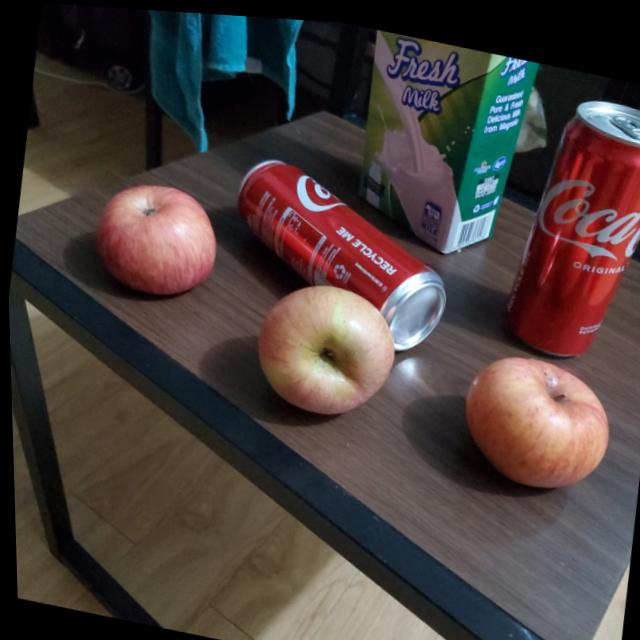apple: (454, 343, 617, 499), (246, 268, 400, 420), (87, 171, 225, 303)
coke: (218, 145, 458, 348), (494, 76, 640, 363)
milk: (346, 26, 551, 265)
